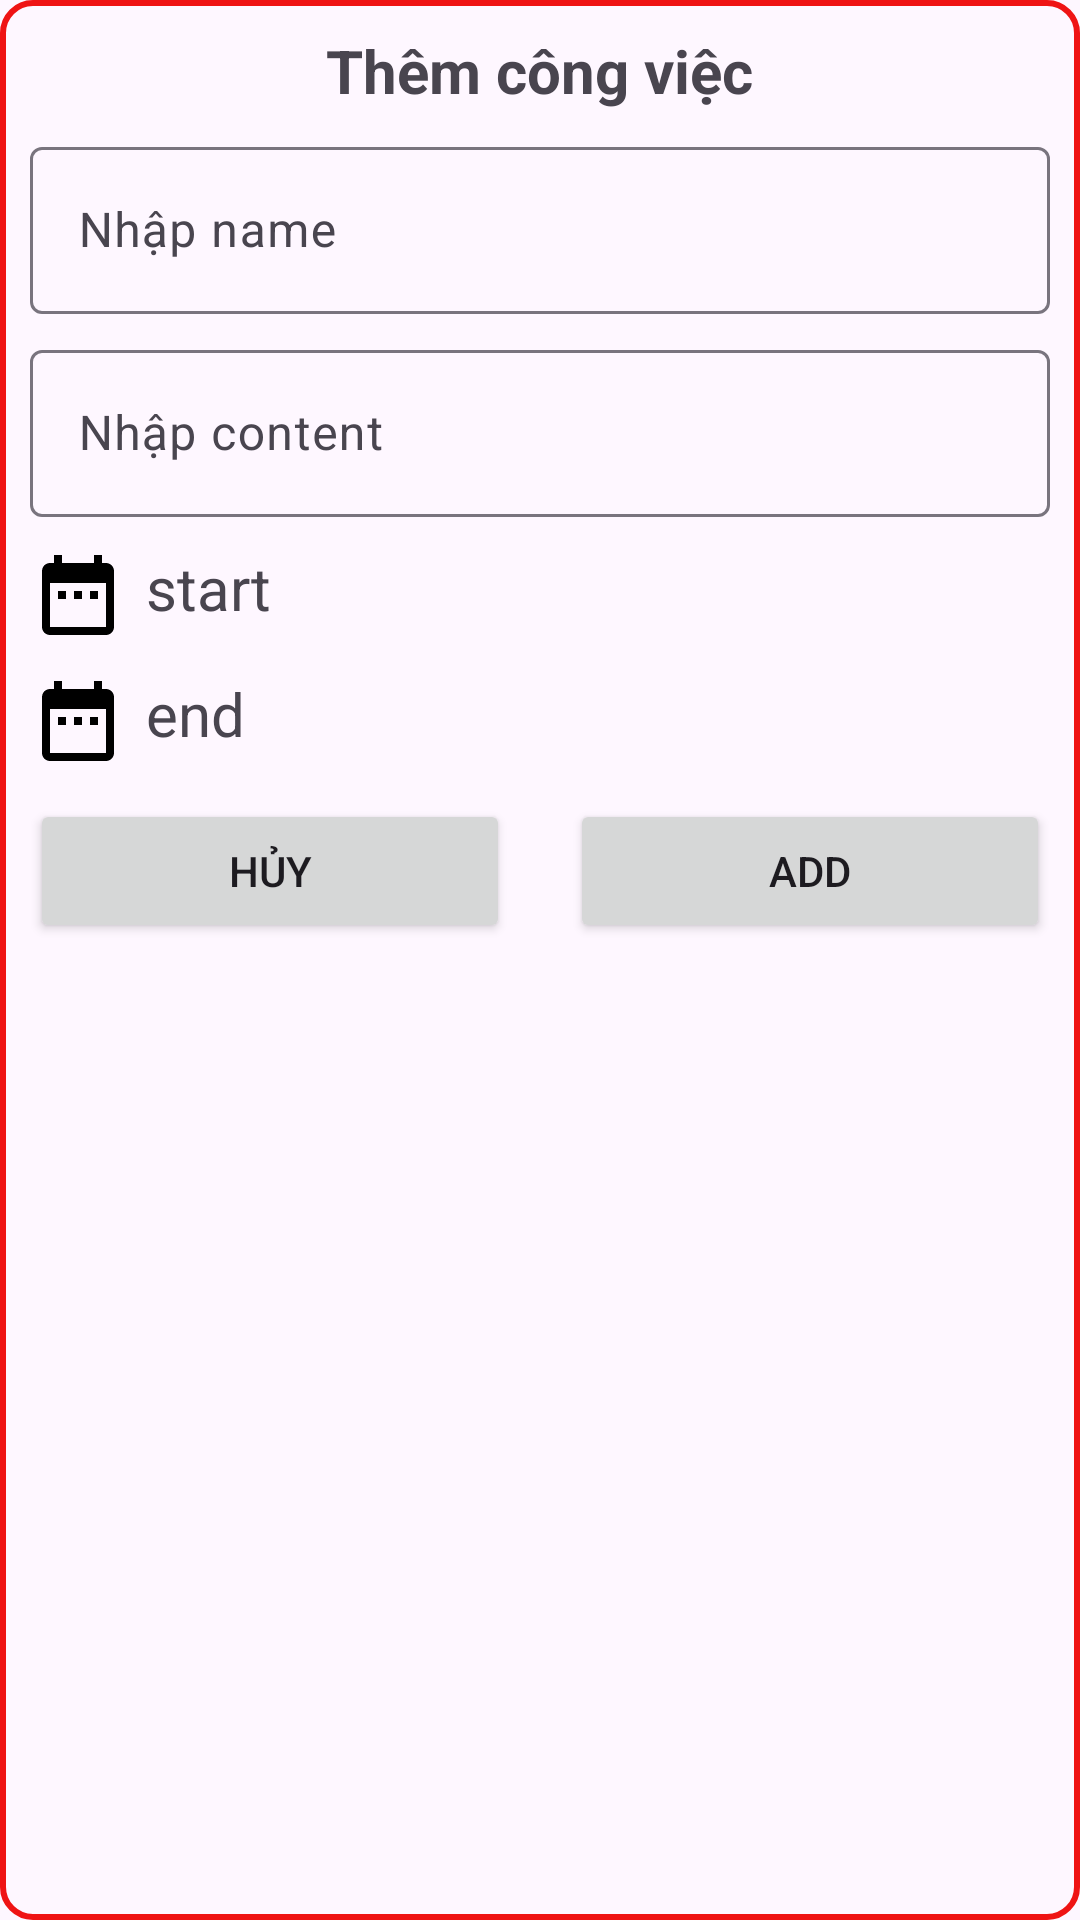

Where icons sit on this 1080px x 1920px app screen, as region(x1, y1, x2, y2):
date: region(42, 555, 114, 635), region(42, 681, 114, 761)
